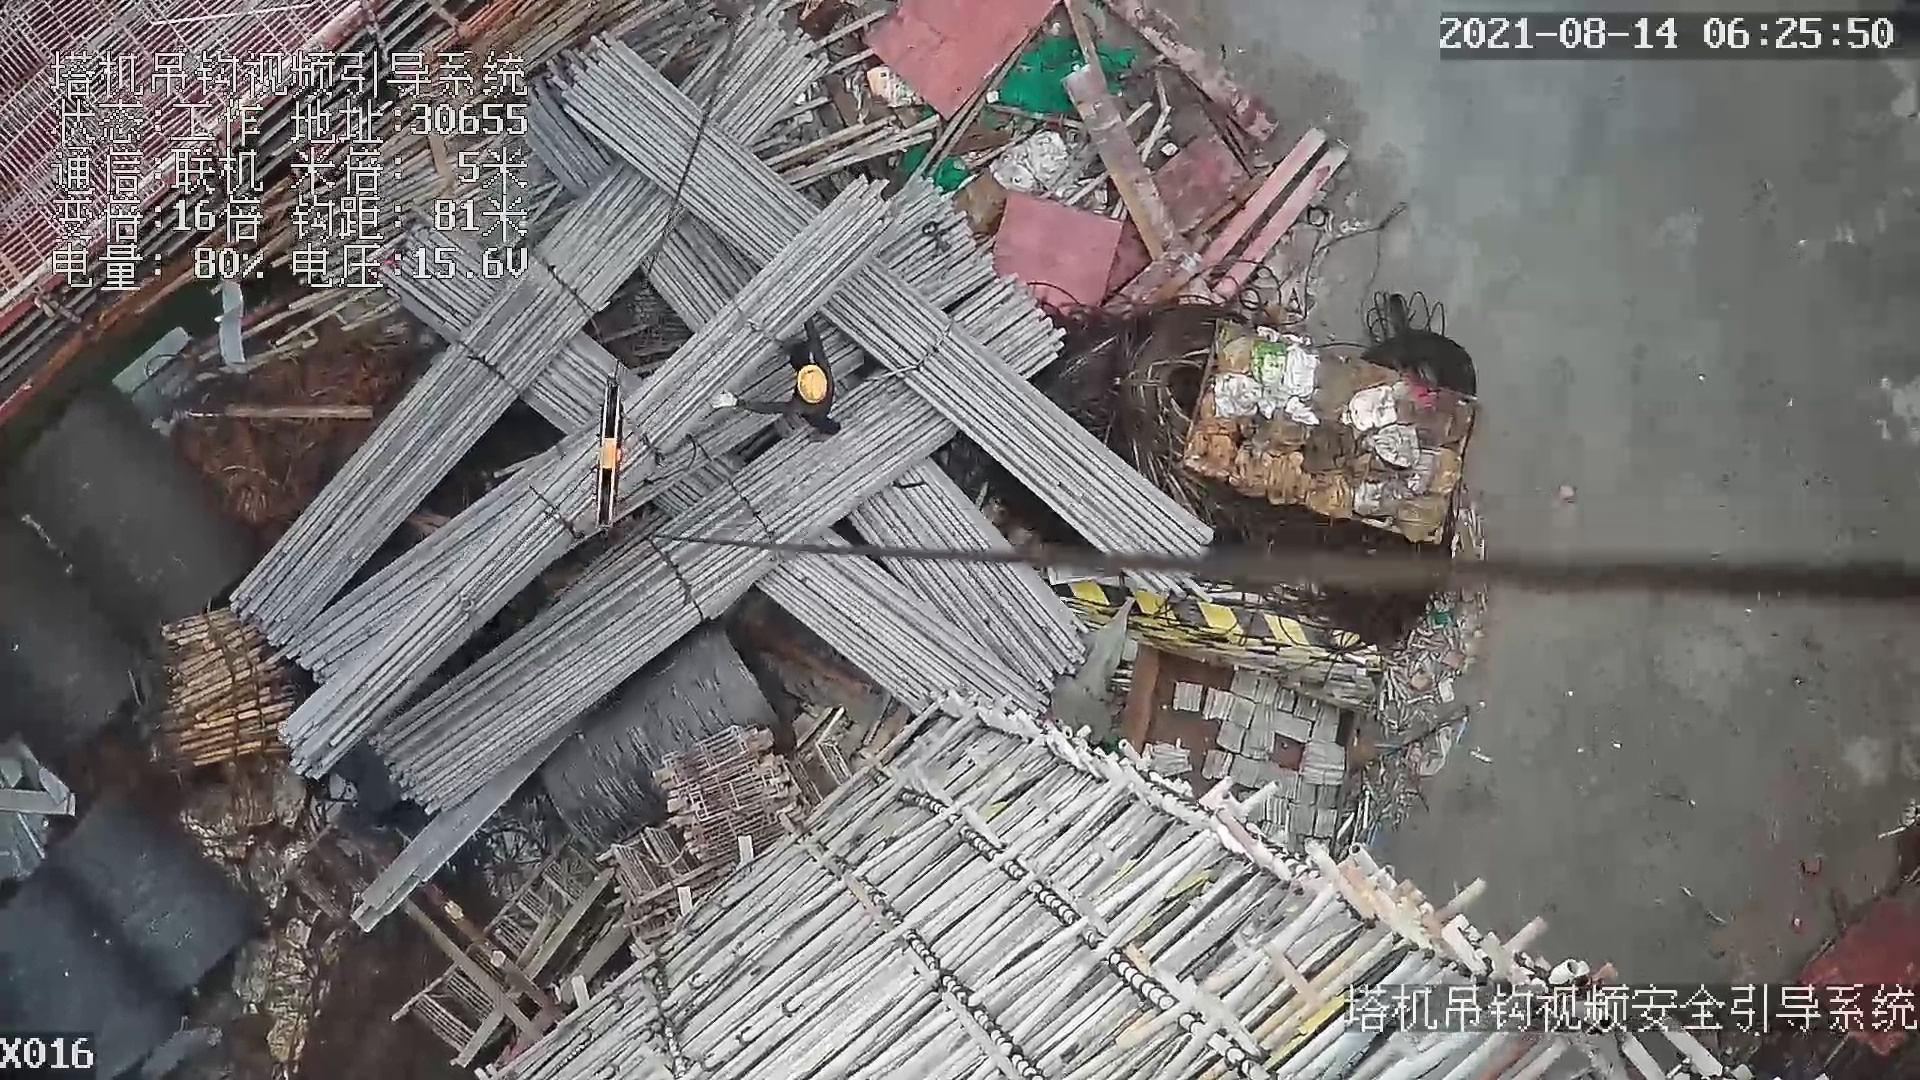helmet: (793, 360, 830, 405)
hook: (591, 374, 631, 535)
person: (715, 324, 842, 436)
